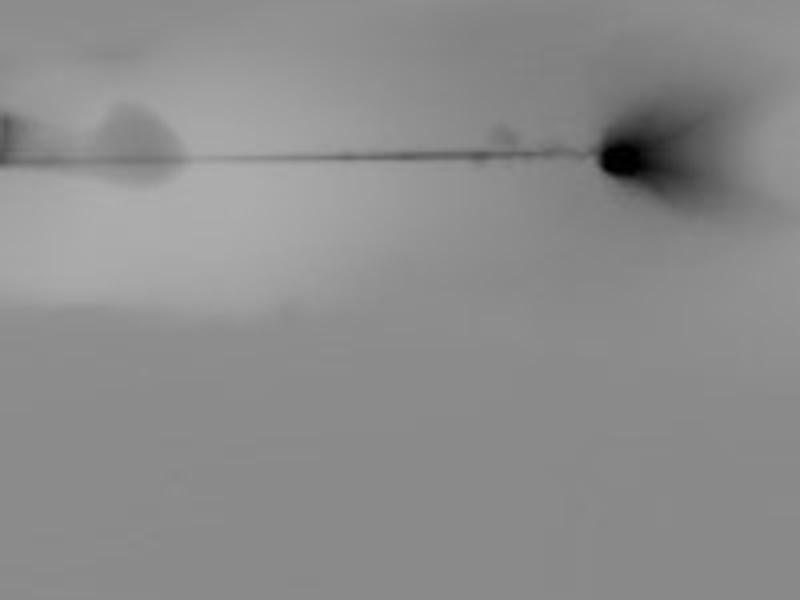defect: (97, 109, 180, 185), (599, 137, 659, 182)
